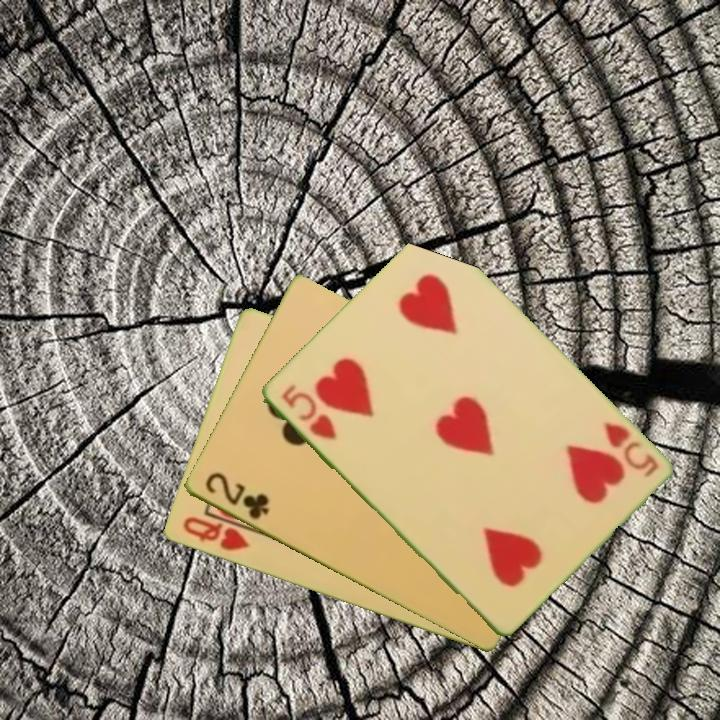2c: (201, 468, 272, 523)
5h: (277, 380, 339, 443), (600, 417, 661, 481)
Qh: (179, 513, 253, 554)
